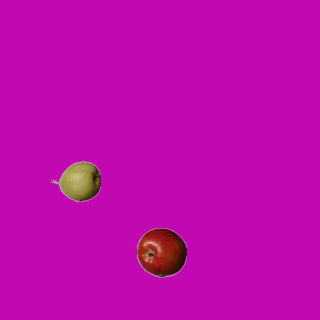Apple Braeburn: (136, 227, 186, 277)
Pear: (50, 156, 100, 206)
